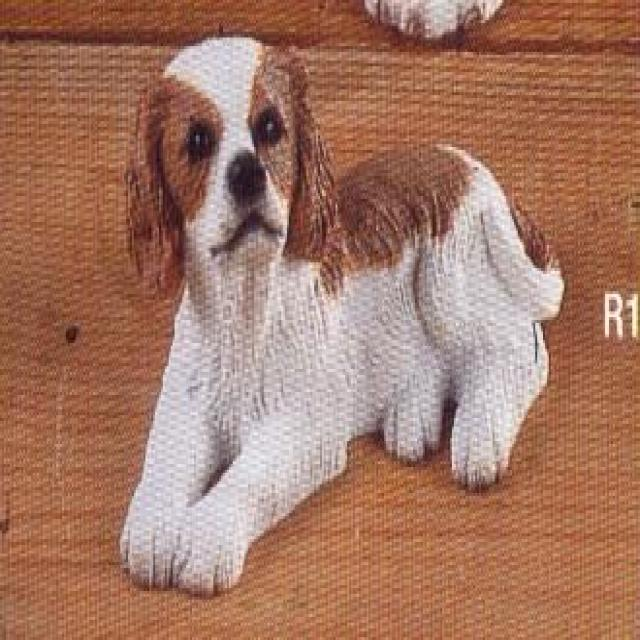blenheim_spaniel: (115, 14, 562, 606)
